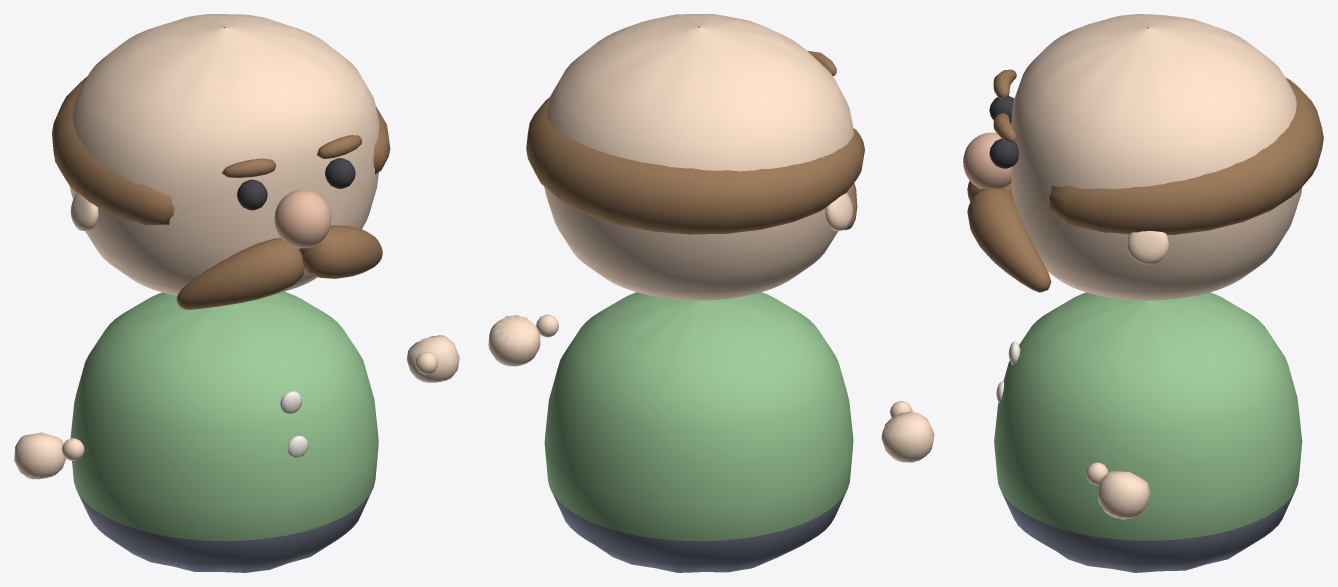
Rendered from Pedestrian.fbx.
The picture shows the model from 3 angles, left to right: view 1: azimuth 30°, elevation 25°; view 2: azimuth 150°, elevation 25°; view 3: azimuth 270°, elevation 25°; orthographic projection.
Visible parts, largest first — view 1: PedBody, PedHead, PedHair, PedStacheL, PedStacheR, PedNose, PedHandL, PedHandR, PedBrowL, PedEarL, PedEyeL, PedEyeR (+1 smaller); view 2: PedBody, PedHead, PedHair, PedHandR, PedHandL, PedEarL; view 3: PedBody, PedHead, PedHair, PedStacheR, PedHandR, PedNose, PedEarR, PedEyeR, PedBrowL, PedBrowR.
Boxes of the visible parts, x1=… form: PedBody: x1=70, y1=291, x2=378, y2=572; PedHead: x1=70, y1=14, x2=379, y2=295; PedHair: x1=52, y1=76, x2=390, y2=225; PedStacheL: x1=176, y1=238, x2=304, y2=309; PedStacheR: x1=299, y1=225, x2=382, y2=278; PedNose: x1=274, y1=189, x2=331, y2=248; PedHandL: x1=14, y1=432, x2=65, y2=479; PedHandR: x1=406, y1=335, x2=459, y2=382; PedBrowL: x1=222, y1=158, x2=275, y2=177; PedEarL: x1=70, y1=193, x2=98, y2=231; PedEyeL: x1=237, y1=179, x2=267, y2=210; PedEyeR: x1=325, y1=158, x2=355, y2=188; PedBody: x1=544, y1=292, x2=853, y2=572; PedHead: x1=544, y1=14, x2=854, y2=300; PedHair: x1=526, y1=97, x2=864, y2=234; PedHandR: x1=488, y1=315, x2=540, y2=366; PedHandL: x1=881, y1=411, x2=934, y2=462; PedEarL: x1=825, y1=193, x2=852, y2=230; PedBody: x1=994, y1=292, x2=1302, y2=572; PedHead: x1=1011, y1=14, x2=1302, y2=300; PedHair: x1=1049, y1=77, x2=1323, y2=234; PedStacheR: x1=967, y1=188, x2=1051, y2=292; PedHandR: x1=1097, y1=471, x2=1150, y2=519; PedNose: x1=963, y1=132, x2=1011, y2=189; PedEarR: x1=1127, y1=231, x2=1169, y2=264; PedEyeR: x1=989, y1=138, x2=1018, y2=168; PedBrowL: x1=993, y1=69, x2=1016, y2=99; PedBrowR: x1=993, y1=113, x2=1016, y2=142.
Size of the model in its own units: 1.15 by 1.28 by 0.8182.
